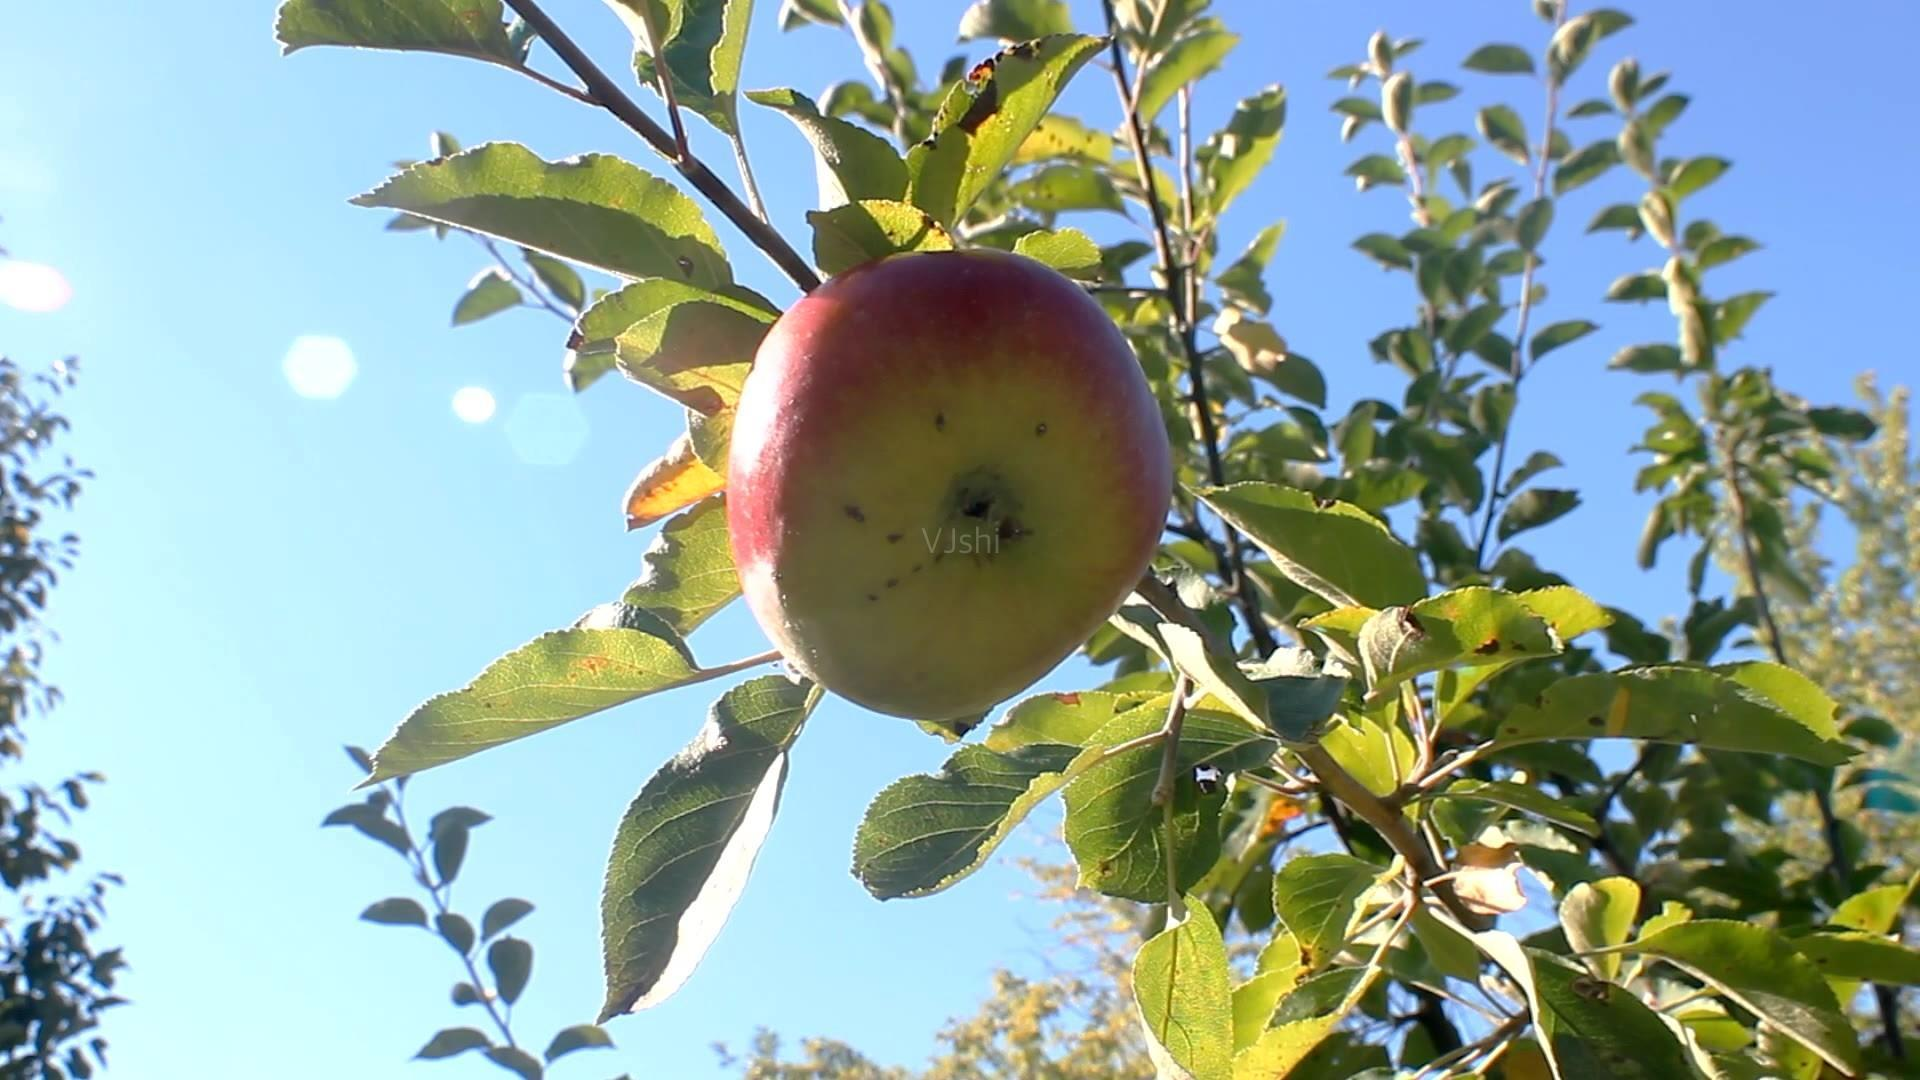apple: (713, 237, 1164, 724)
